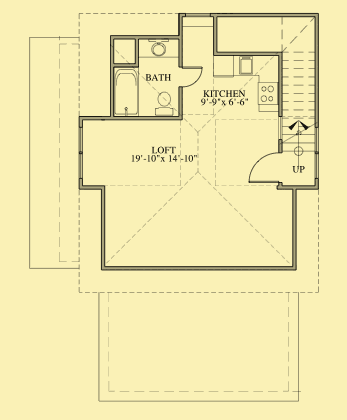door: (245, 150, 284, 185), (176, 65, 205, 87)
large_sink: (152, 91, 176, 117)
small_sink: (138, 37, 180, 61)
stairs: (277, 51, 317, 153)
tub: (114, 67, 140, 115)
window: (78, 125, 84, 180)
